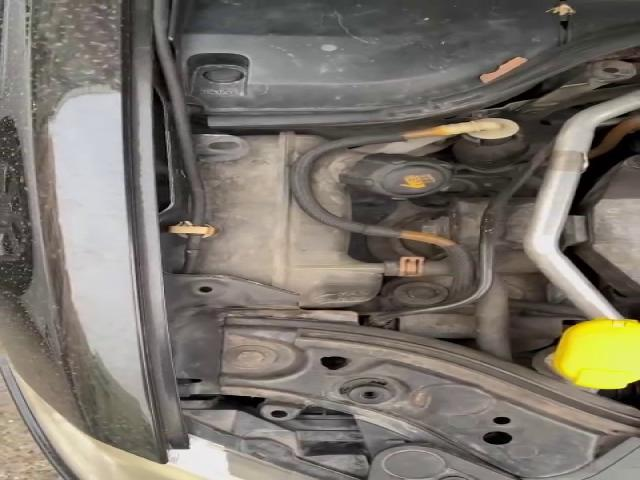antifreeze_tank: (197, 133, 380, 308), (311, 149, 453, 217)
